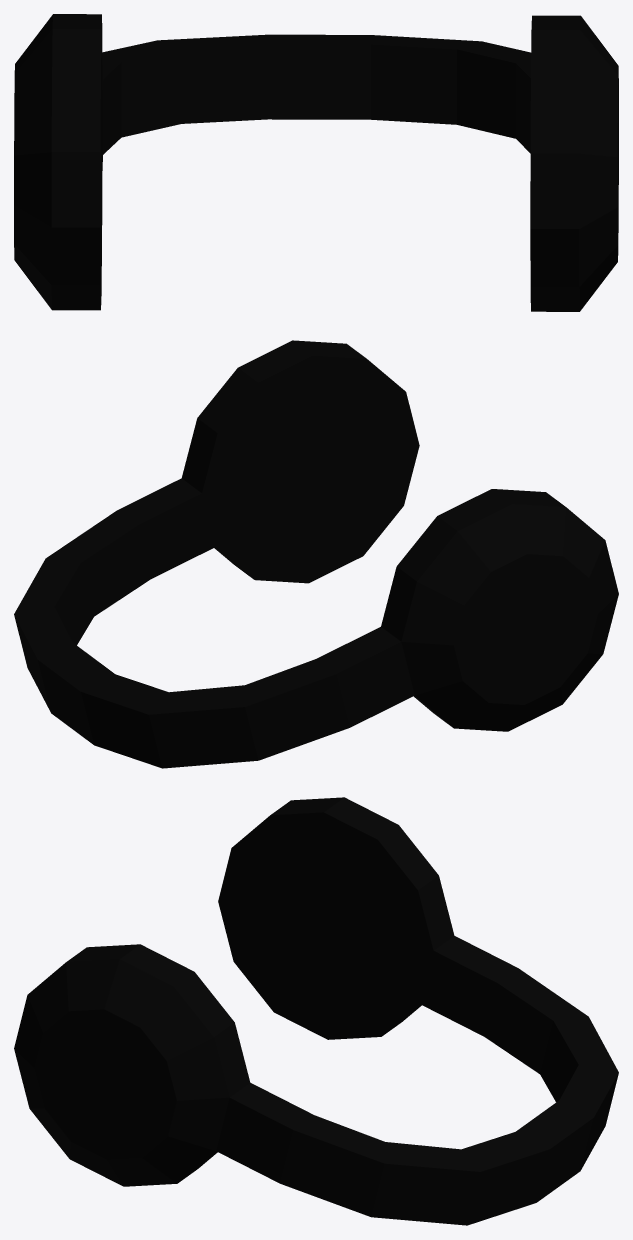
The model's file is headphones.FBX.
3 views of the same model, one above another, from view 1: azimuth 30°, elevation 25°; view 2: azimuth 150°, elevation 25°; view 3: azimuth 270°, elevation 25° (orthographic). The views are drawn at different scales.
Visible parts, largest first — view 1: headphones; view 2: headphones; view 3: headphones.
Boxes of the visible parts, x1=… form: headphones: x1=14, y1=14, x2=618, y2=311; headphones: x1=14, y1=340, x2=618, y2=768; headphones: x1=14, y1=797, x2=618, y2=1225.
Bounding box in the file's own units: 14.32 × 6.17 × 14.86.
